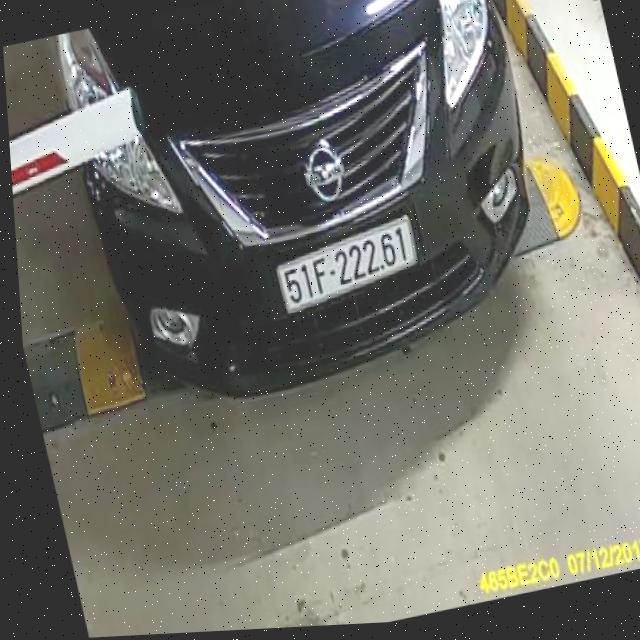car: (32, 0, 587, 432)
plate: (267, 212, 426, 316)
